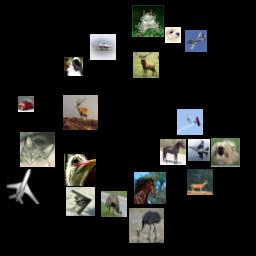airplane: (5, 169, 40, 204), (66, 187, 95, 216), (90, 34, 116, 60), (177, 109, 203, 135), (188, 139, 210, 161), (185, 30, 207, 52)
automobile: (18, 96, 34, 112)
bird: (129, 208, 164, 243), (64, 154, 96, 186), (101, 191, 127, 217)
cat: (20, 132, 55, 167)
deer: (63, 95, 98, 130), (187, 169, 213, 195), (133, 52, 159, 78)
dog: (211, 138, 240, 167), (64, 57, 83, 76), (165, 27, 181, 43)
frog: (132, 5, 164, 37)
